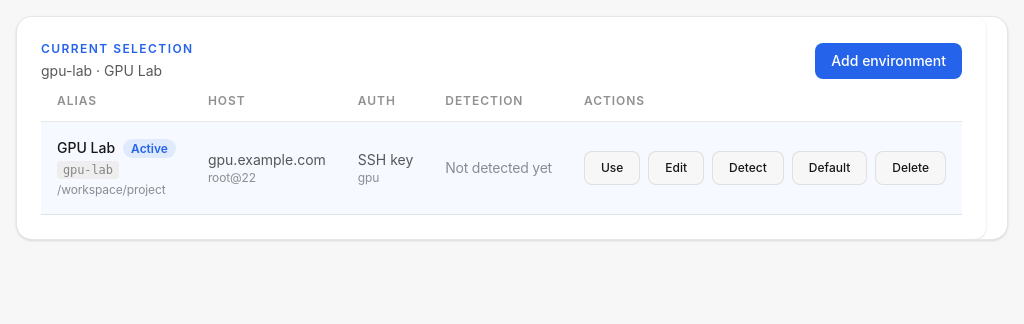
Test: EnvironmentsPage › shows a backend conflict when deleting a referenced environment
This screenshot has width=1024, height=324.
Expected: the text "GPU Lab" is shown, [57, 139, 115, 156]
Click the button "Delete": (911, 168) [875, 151, 946, 185]
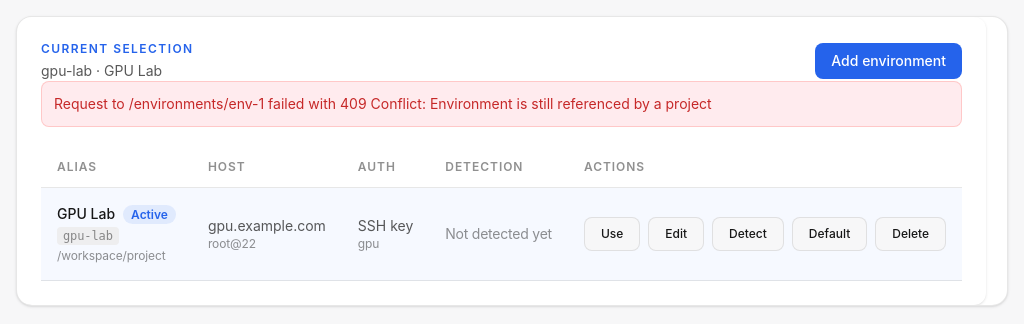
Now the text "Environment is still referenced by a project" is shown, box [54, 95, 712, 112]
